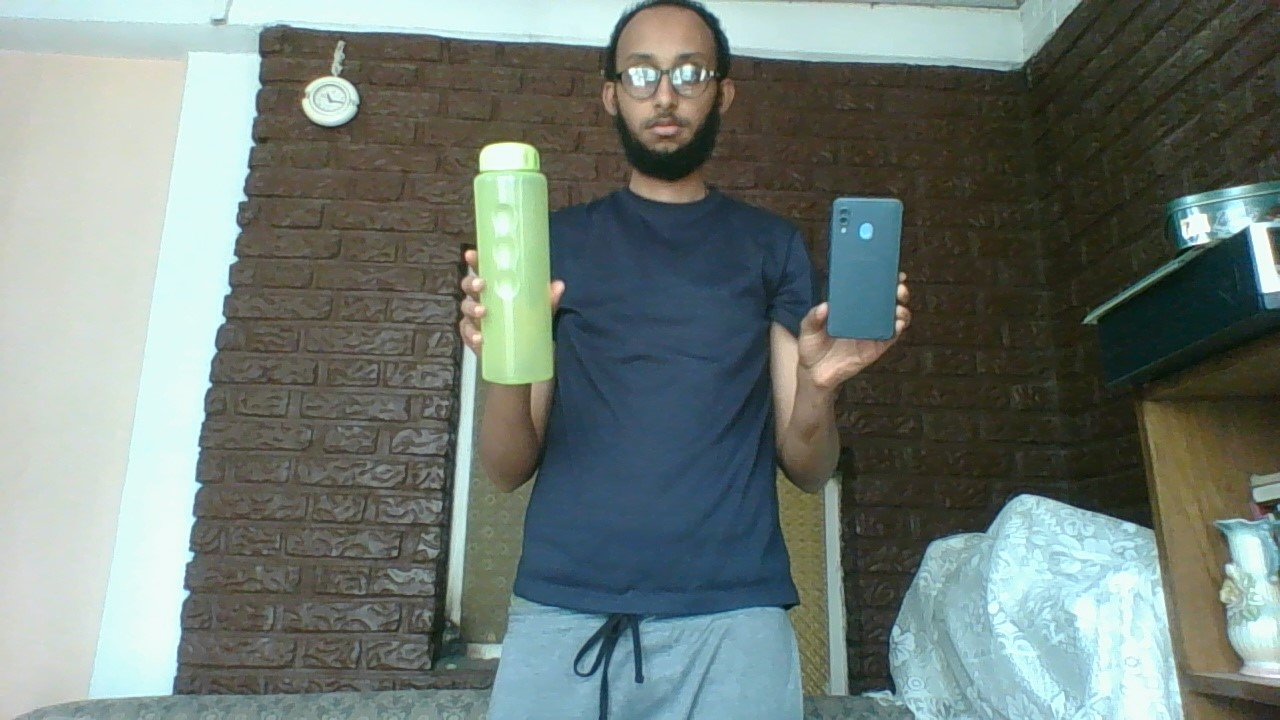Smart_phone: (826, 192, 906, 342)
Water_bottle: (470, 139, 557, 387)
